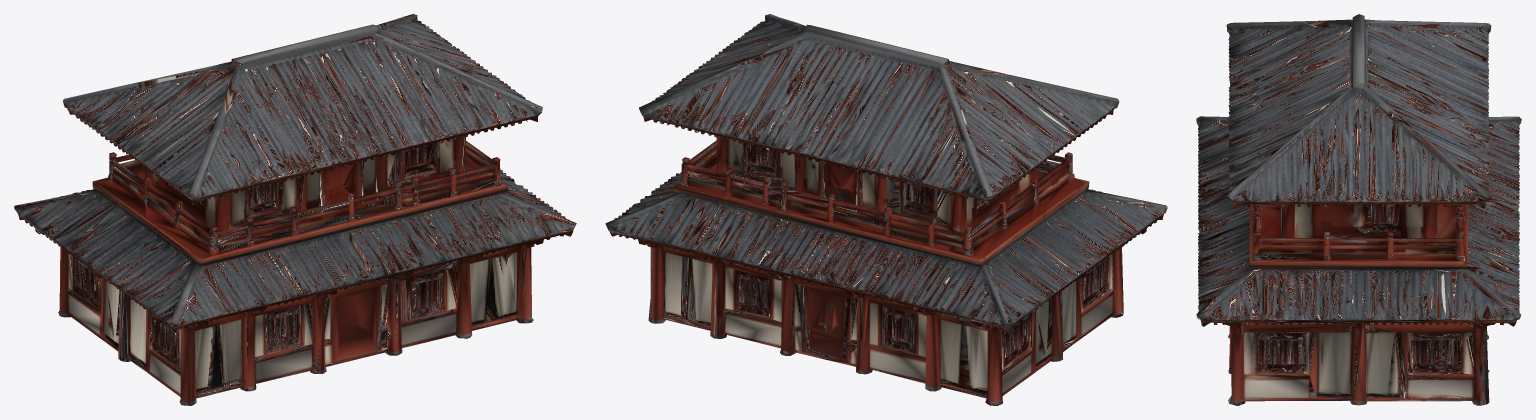
Rendered from louge_lod0.glb.
3 views of the same model, side by side, from view 1: azimuth 30°, elevation 25°; view 2: azimuth 150°, elevation 25°; view 3: azimuth 270°, elevation 25° (orthographic).
Parts seen in each view (by area): view 1: node_0; view 2: node_0; view 3: node_0.
Part boxes in pixels (x1,y1,x2,y2): node_0: (14, 14, 576, 405); node_0: (605, 14, 1167, 405); node_0: (1196, 14, 1521, 405).
Size of the model in its own units: 19.42 by 12.48 by 13.37.
1 material, 1 textured.
